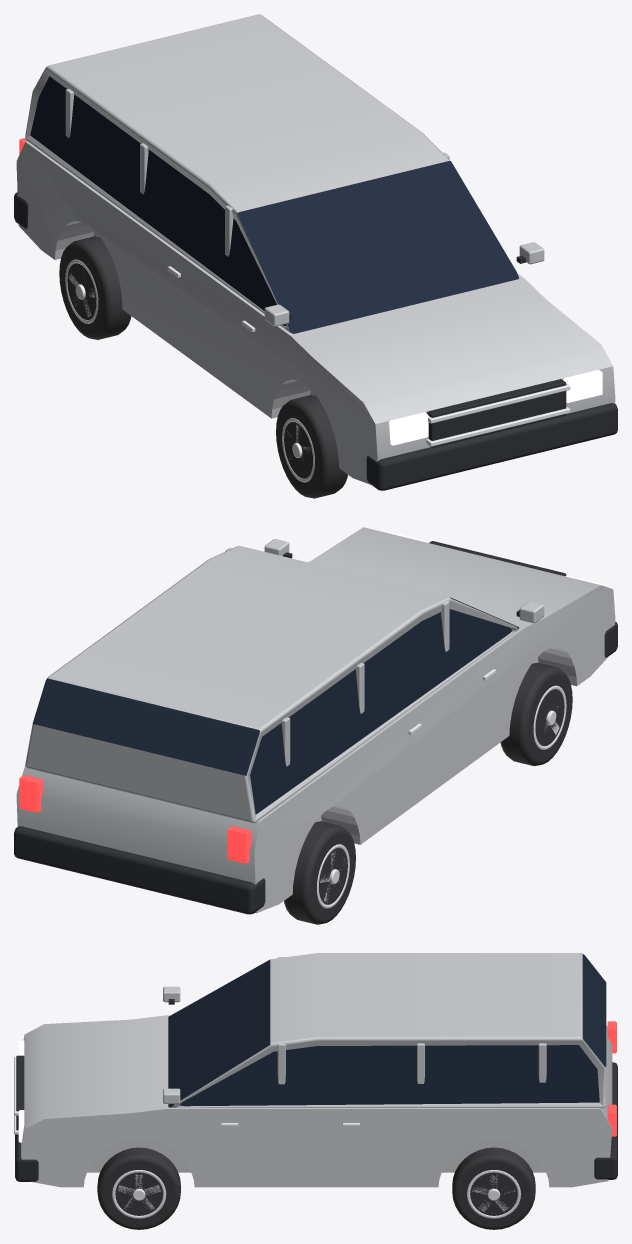
The model's file is van.glb.
The picture shows the model from 3 angles, top to bottom: view 1: azimuth 30°, elevation 25°; view 2: azimuth 150°, elevation 25°; view 3: azimuth 270°, elevation 25°; orthographic projection. The views are drawn at different scales.
Visible parts, largest first — view 1: body_paint, body_trim, wheel_RR, wheel_FR; view 2: body_paint, body_trim, wheel_RR, wheel_FR; view 3: body_paint, body_trim, wheel_RL, wheel_FL.
Part boxes in pixels (box(x1,y1,x2,y2)): body_paint: box(16, 14, 615, 484); body_trim: box(14, 76, 617, 490); wheel_RR: box(59, 236, 131, 339); wheel_FR: box(276, 395, 347, 498); body_paint: box(16, 527, 615, 913); body_trim: box(14, 533, 617, 914); wheel_RR: box(284, 821, 355, 924); wheel_FR: box(500, 662, 572, 766); body_paint: box(21, 953, 612, 1187); body_trim: box(14, 954, 617, 1181); wheel_RL: box(452, 1147, 535, 1229); wheel_FL: box(97, 1147, 180, 1229).
Size of the model in its own units: 2.21 by 1.78 by 5.21.
